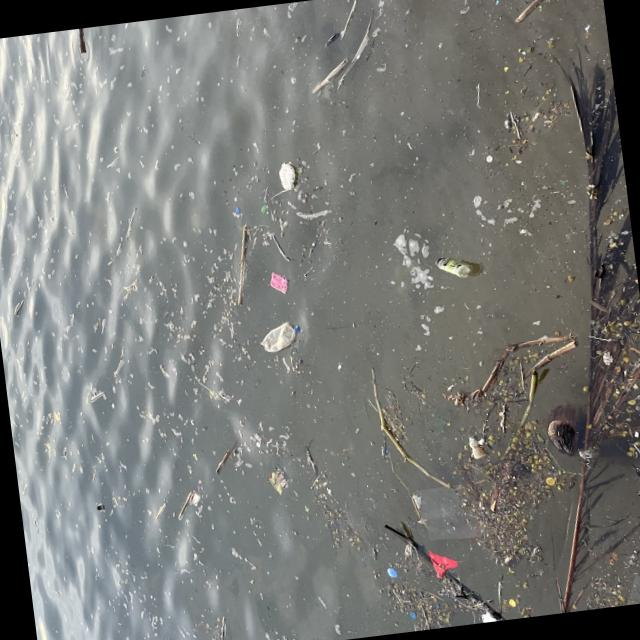foam: (276, 159, 298, 190), (481, 608, 496, 622)
plastic: (259, 319, 302, 352), (433, 254, 471, 279), (468, 434, 485, 459)
plastic bottle: (409, 482, 482, 544), (617, 569, 640, 605), (266, 462, 290, 496)
unknow: (427, 548, 459, 577), (268, 270, 290, 294)
